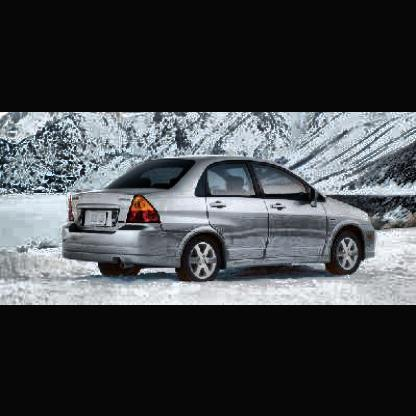Suzuki Aerio Sedan 2007: (64, 155, 381, 288)
